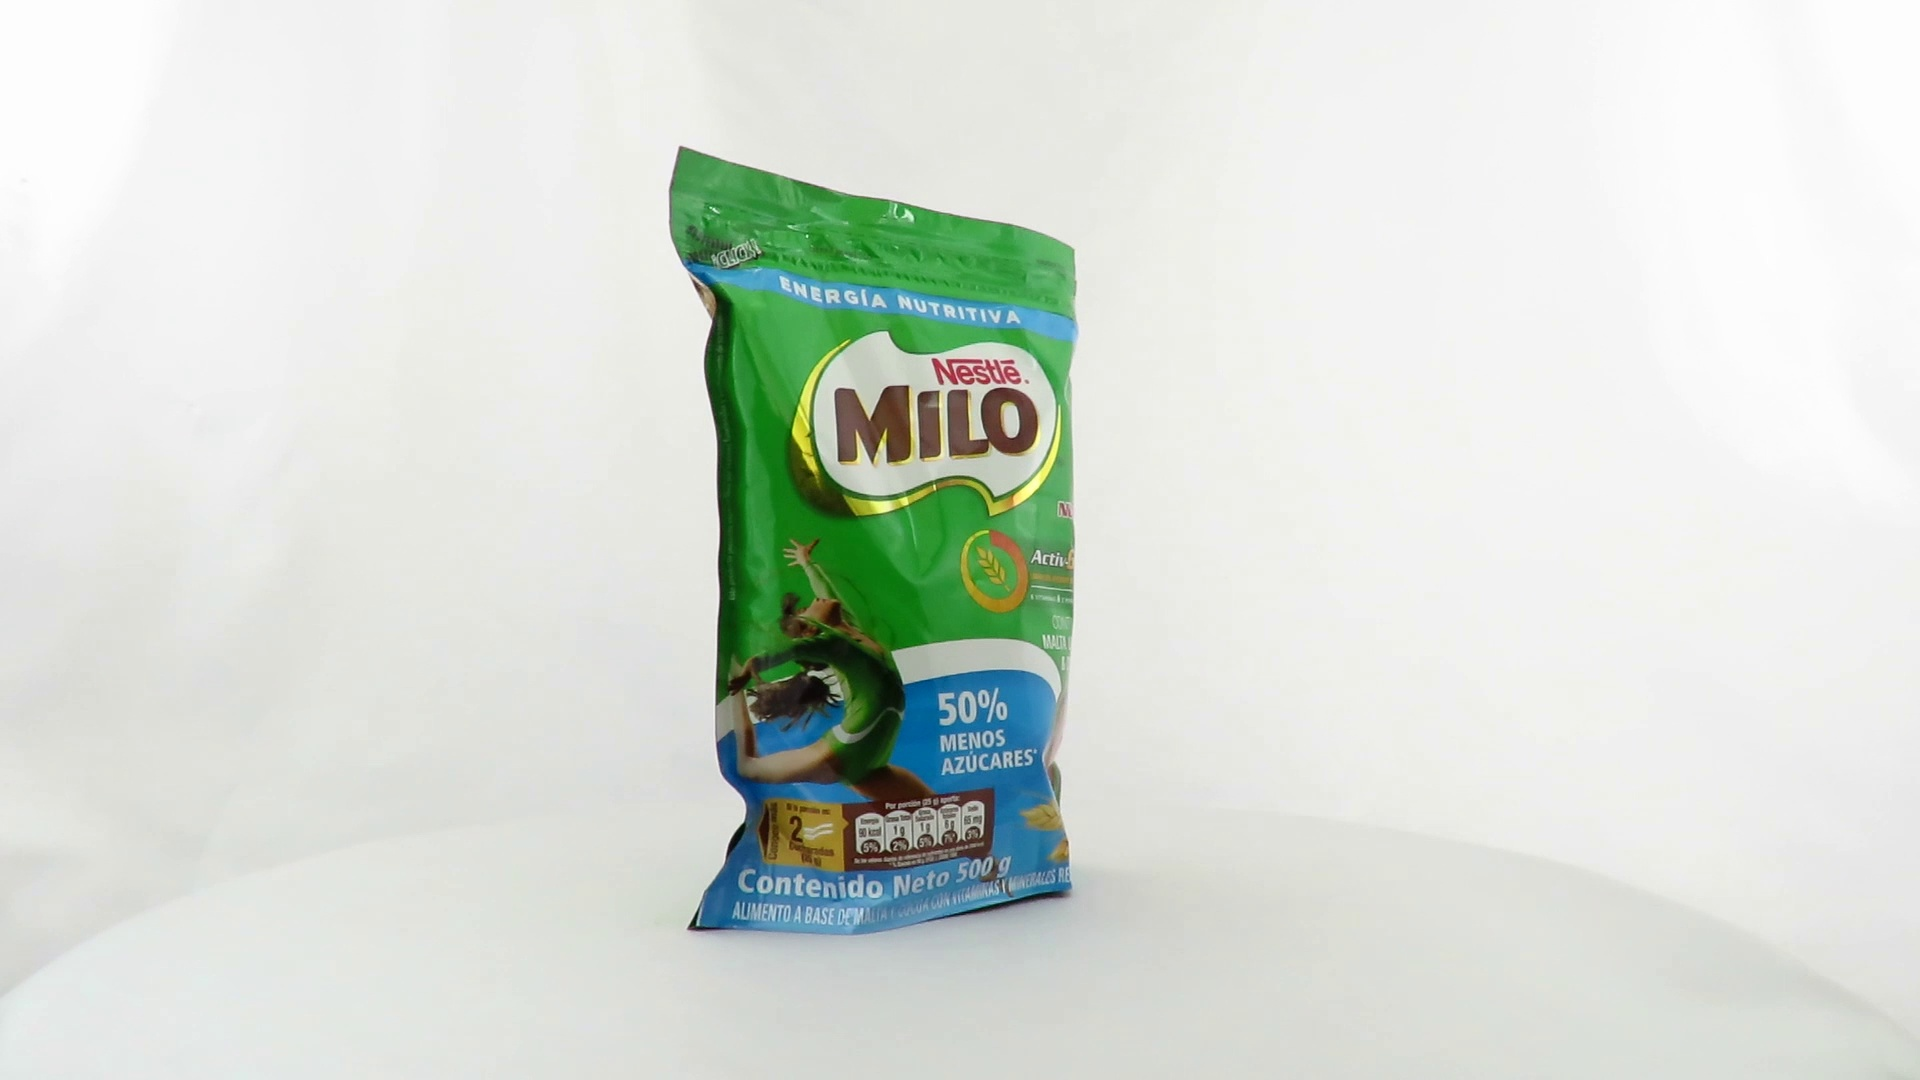COL0170205DYP50000: (663, 141, 1085, 942)
